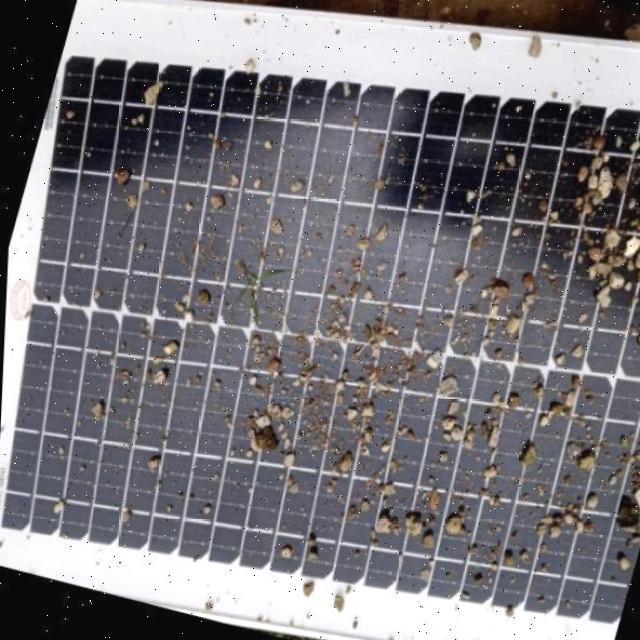Surface Contaminant: (2, 30, 640, 640)
